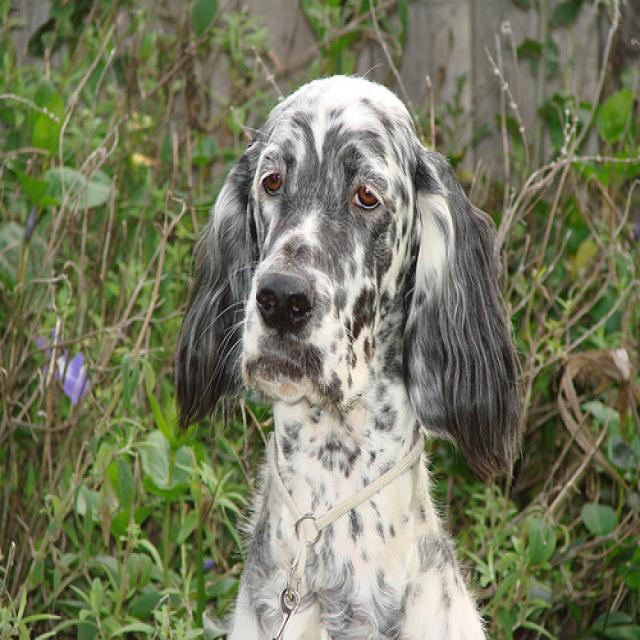dog-english_setter: (168, 61, 529, 637)
